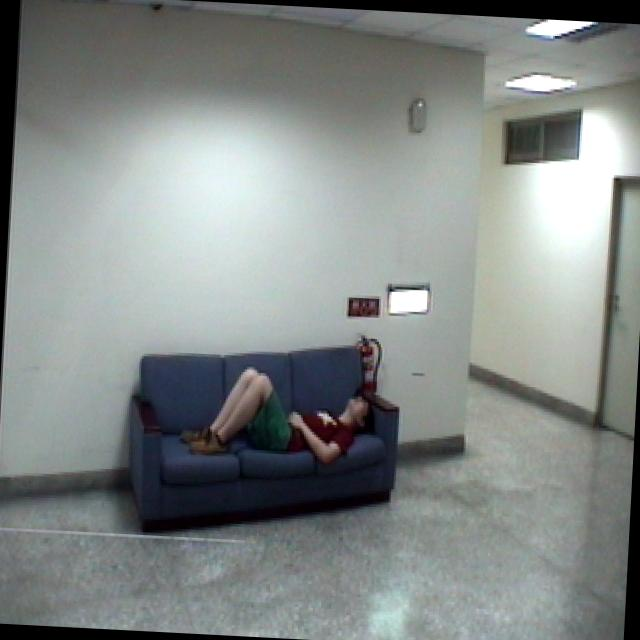lie: (172, 356, 384, 489)
